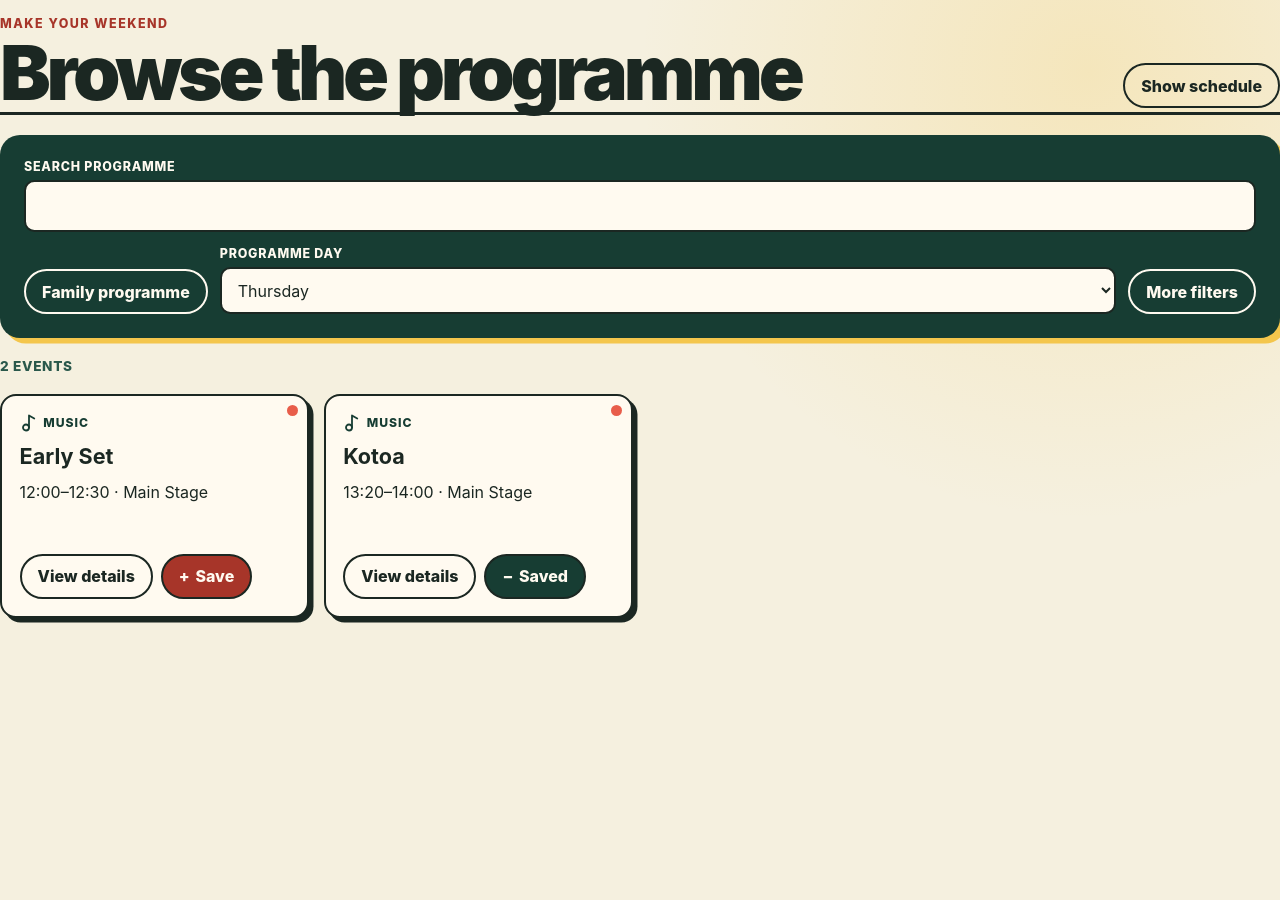
it: BrowseView › shows only selected-day phone schedule rows in chronological order
The image size is (1280, 900).
Click the button "Show schedule" at (1202, 86), box [1123,63,1279,108]
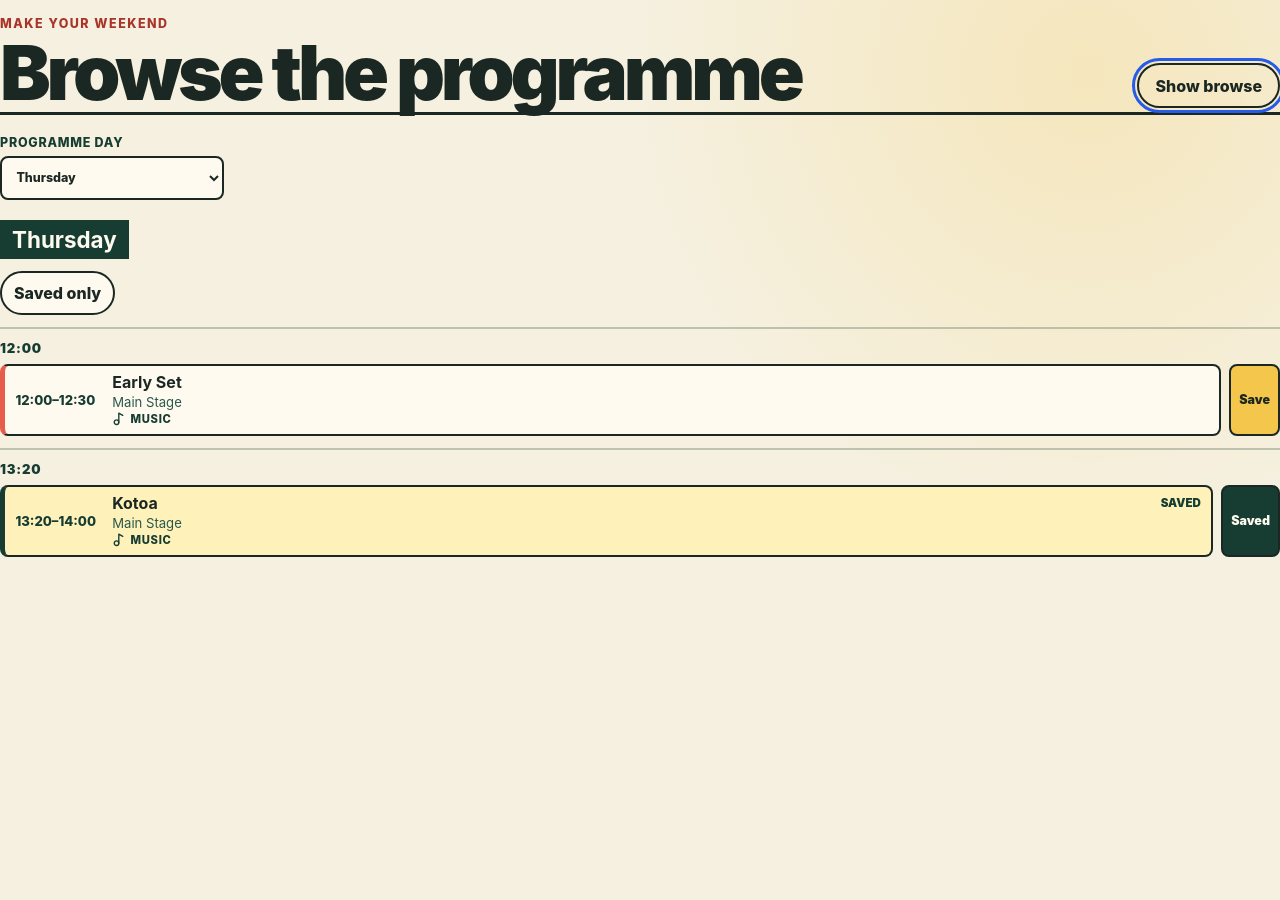
Result: the heading "Thursday" is shown at [0,220,129,259]
Result: the button with aria-label "day schedule event" shows "12:00–12:30" at [0,364,1221,436]
Result: the button with aria-label "day schedule event" shows "Early Set" at [0,364,1221,436]
Click the button with aria-label "Kotoa day schedule event" at (56, 521), box [0,484,1213,557]
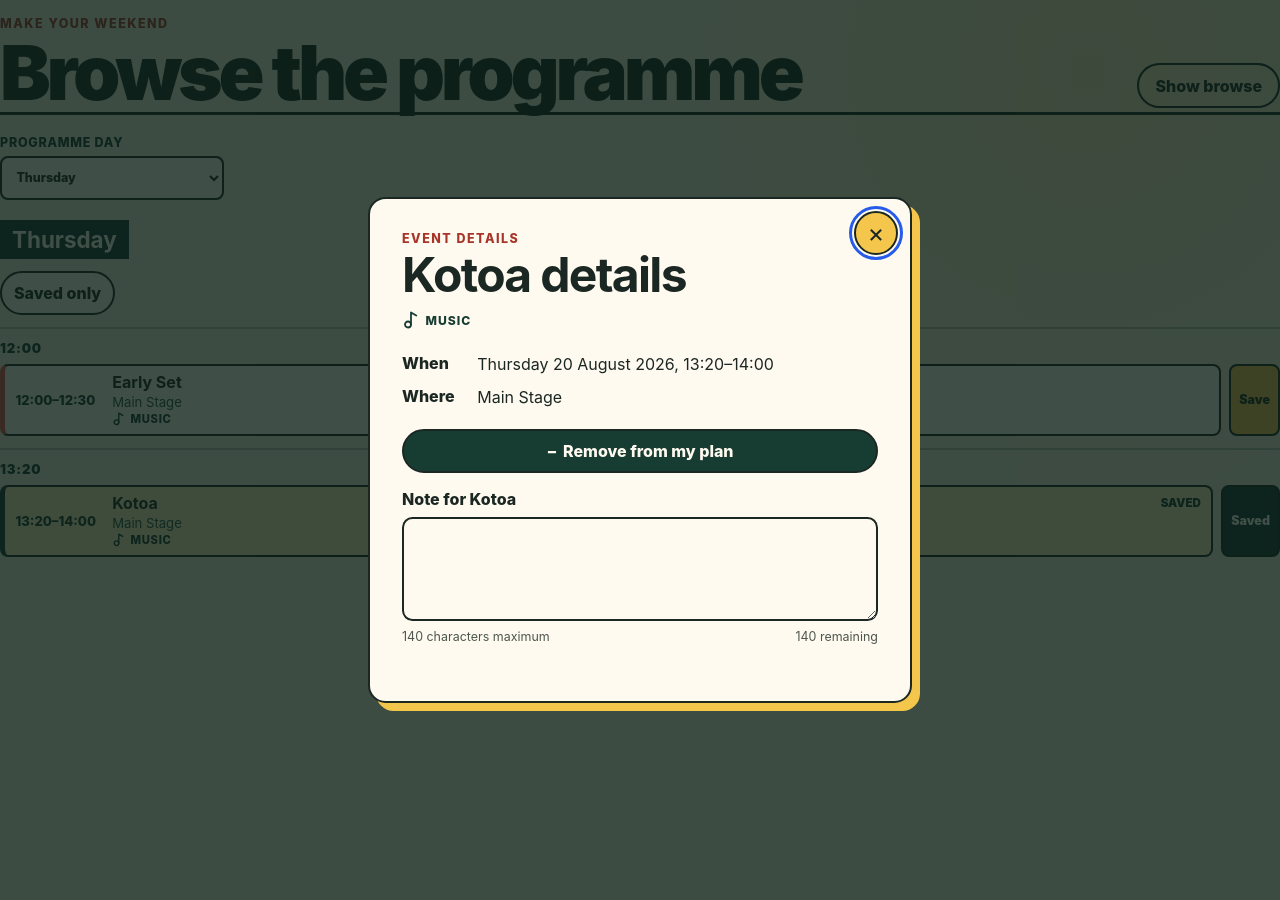
Result: the dialog "Kotoa details" is shown at [368,197,912,703]
